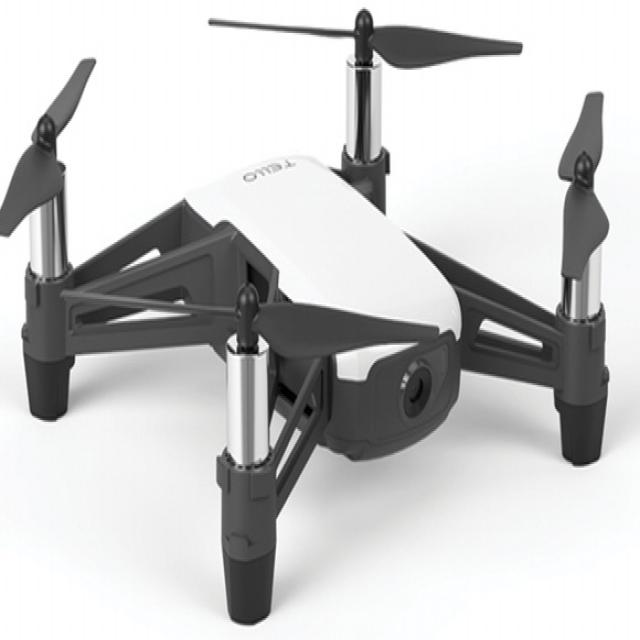drone: (6, 7, 633, 631)
